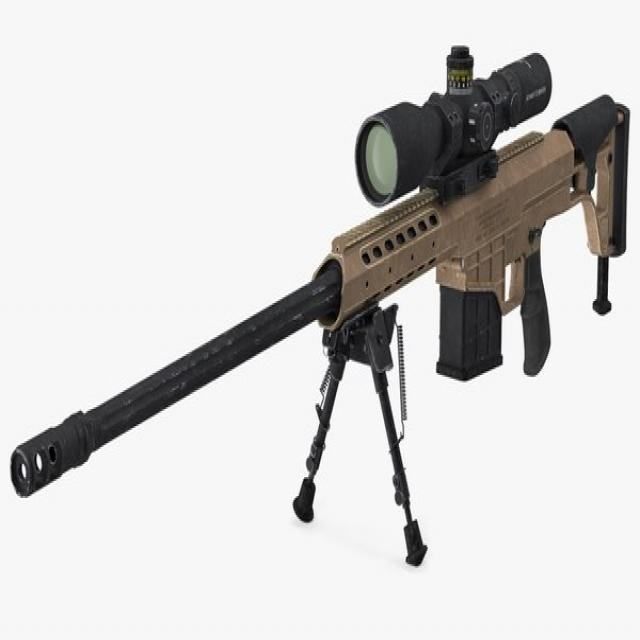rifle: (6, 30, 632, 588)
